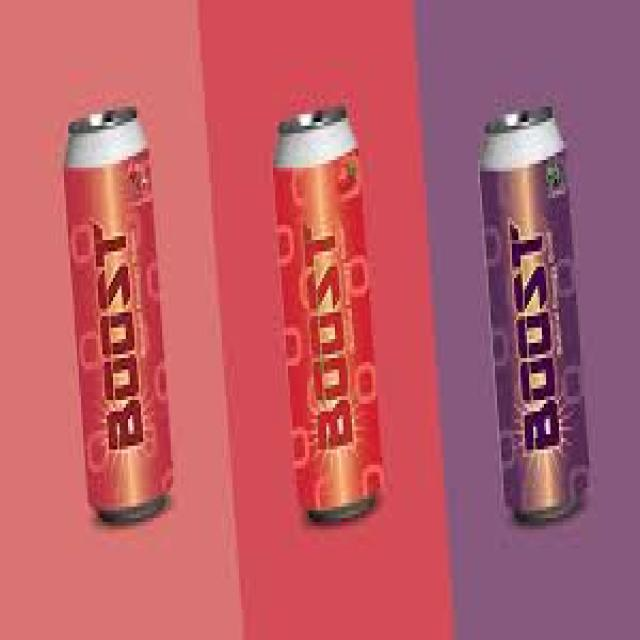Cans: (262, 95, 390, 541), (472, 95, 598, 537), (58, 95, 181, 541)
